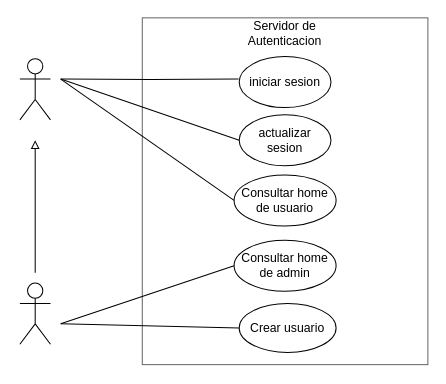
The diagram is 446 pixels wide and 384 high, and some of its shapes have lost their labels. The box of each missing label's shape, as (x1, y1, x2, y2) in pixels:
Admin: (19, 282, 50, 344)
User: (19, 58, 50, 120)
